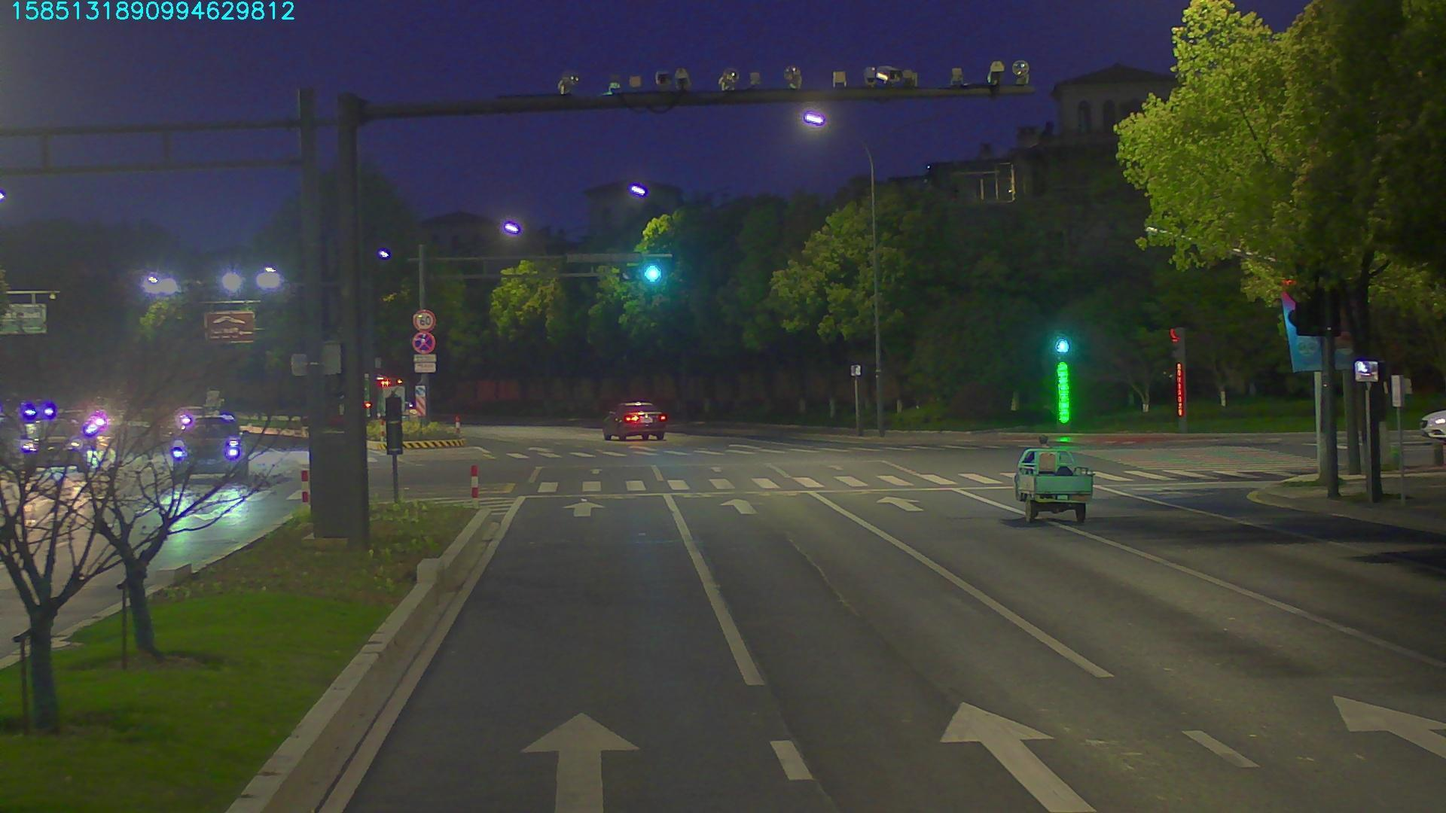green: (621, 263, 664, 280)
